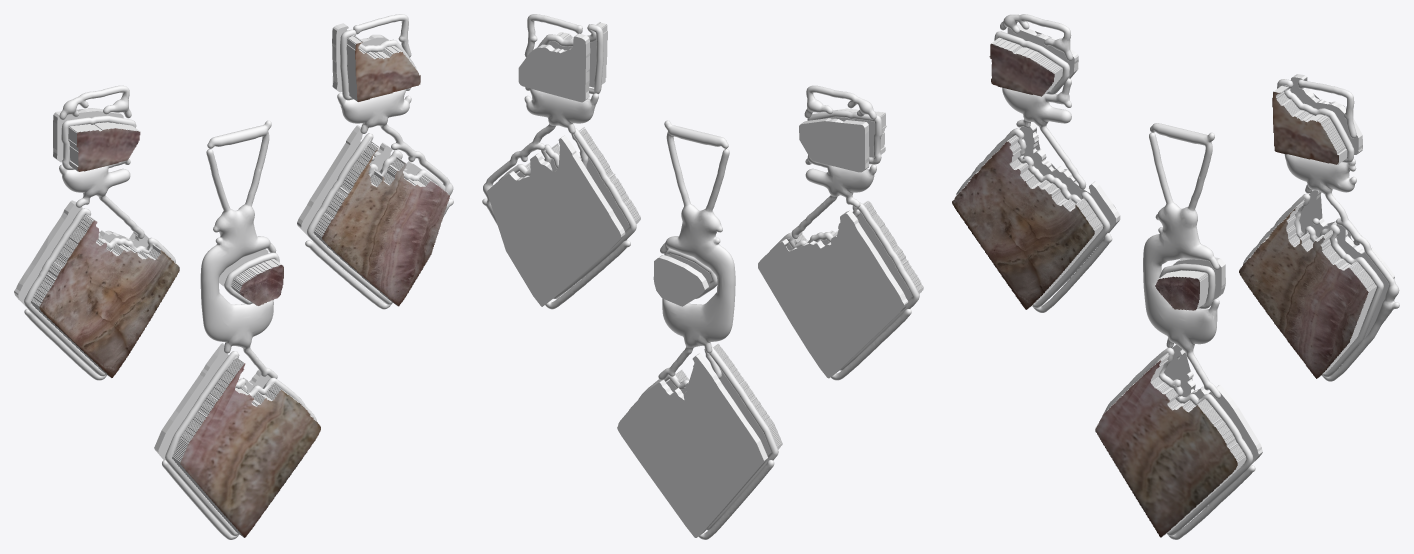
3 views of the same model, side by side, from view 1: azimuth 30°, elevation 25°; view 2: azimuth 150°, elevation 25°; view 3: azimuth 330°, elevation 25° (orthographic).
Visible parts, largest first — view 1: joya; view 2: joya; view 3: joya.
Boxes of the visible parts, x1,y1,x2,y2 form: joya: [14, 14, 453, 539]; joya: [482, 14, 923, 539]; joya: [952, 14, 1399, 539].
Bounding box in the file's own units: 0.0362 × 0.0387 × 0.00325.
Materials: 3 (1 with a texture image).
